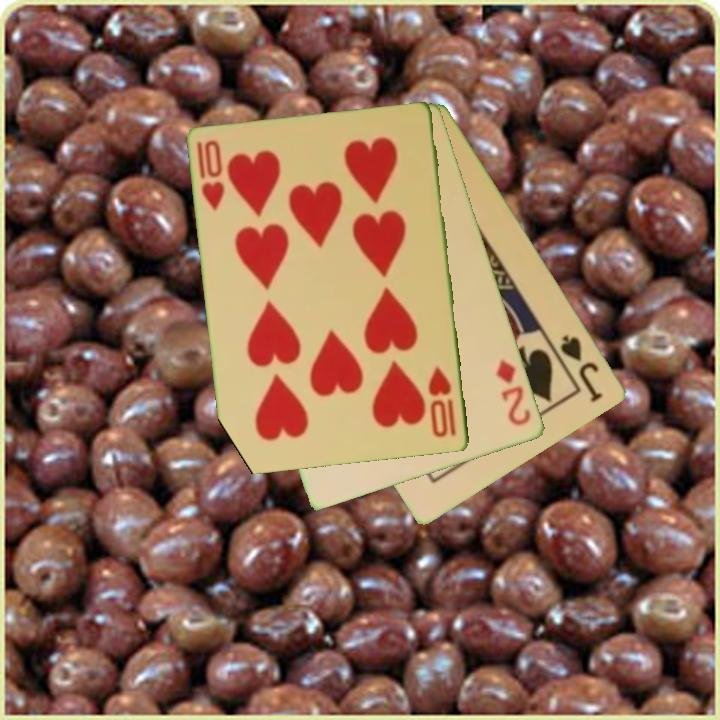10h: (193, 137, 228, 214), (425, 363, 459, 441)
2d: (492, 356, 535, 429)
Js: (557, 331, 606, 405)
